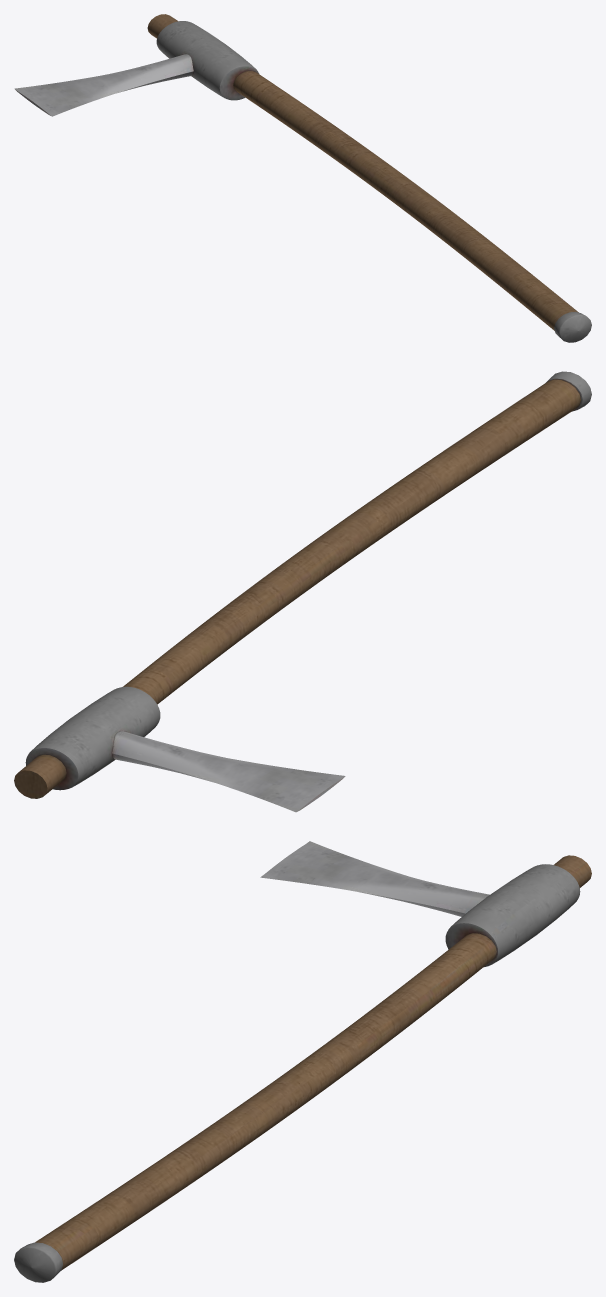
Rendered from hun_axe.glb.
The picture shows the model from 3 angles, top to bottom: view 1: azimuth 30°, elevation 25°; view 2: azimuth 150°, elevation 25°; view 3: azimuth 330°, elevation 25°; orthographic projection. The views are drawn at different scales.
Visible parts, largest first — view 1: hun_axe; view 2: hun_axe; view 3: hun_axe.
Boxes of the visible parts, x1,y1,x2,y2 form: hun_axe: [14, 14, 591, 342]; hun_axe: [14, 371, 591, 812]; hun_axe: [14, 841, 591, 1282].
Size of the model in its own units: 0.217 by 0.0378 by 0.785.
1 material, 1 textured.
